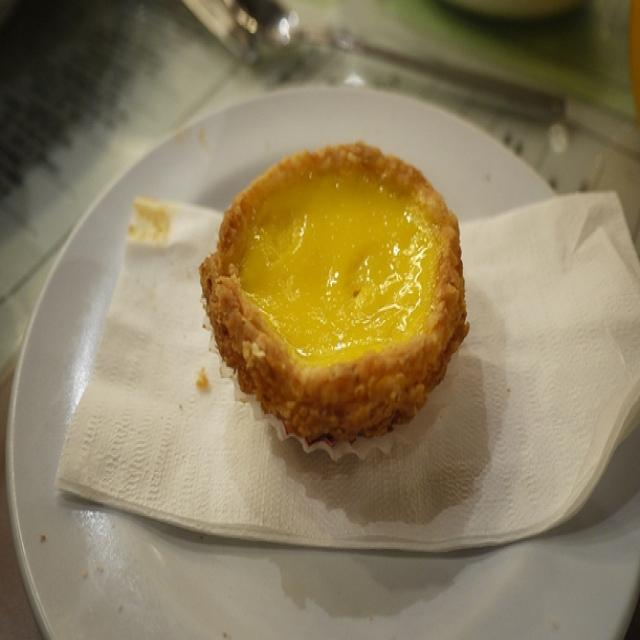炸货点心: (3, 77, 630, 630)
蛋糕甜品: (3, 77, 630, 630)
